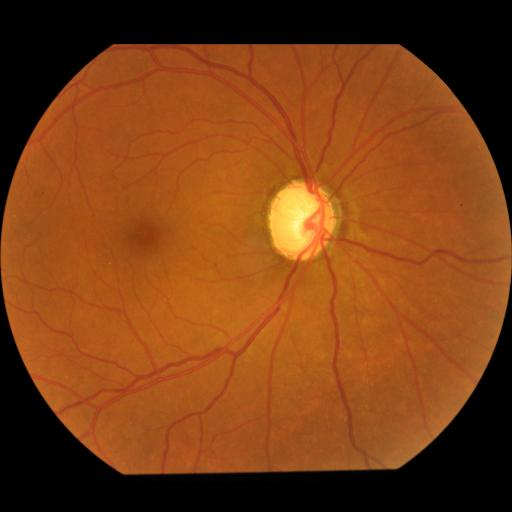Optic Cup: (291, 200, 322, 242)
Optic Disc: (270, 179, 335, 262)
